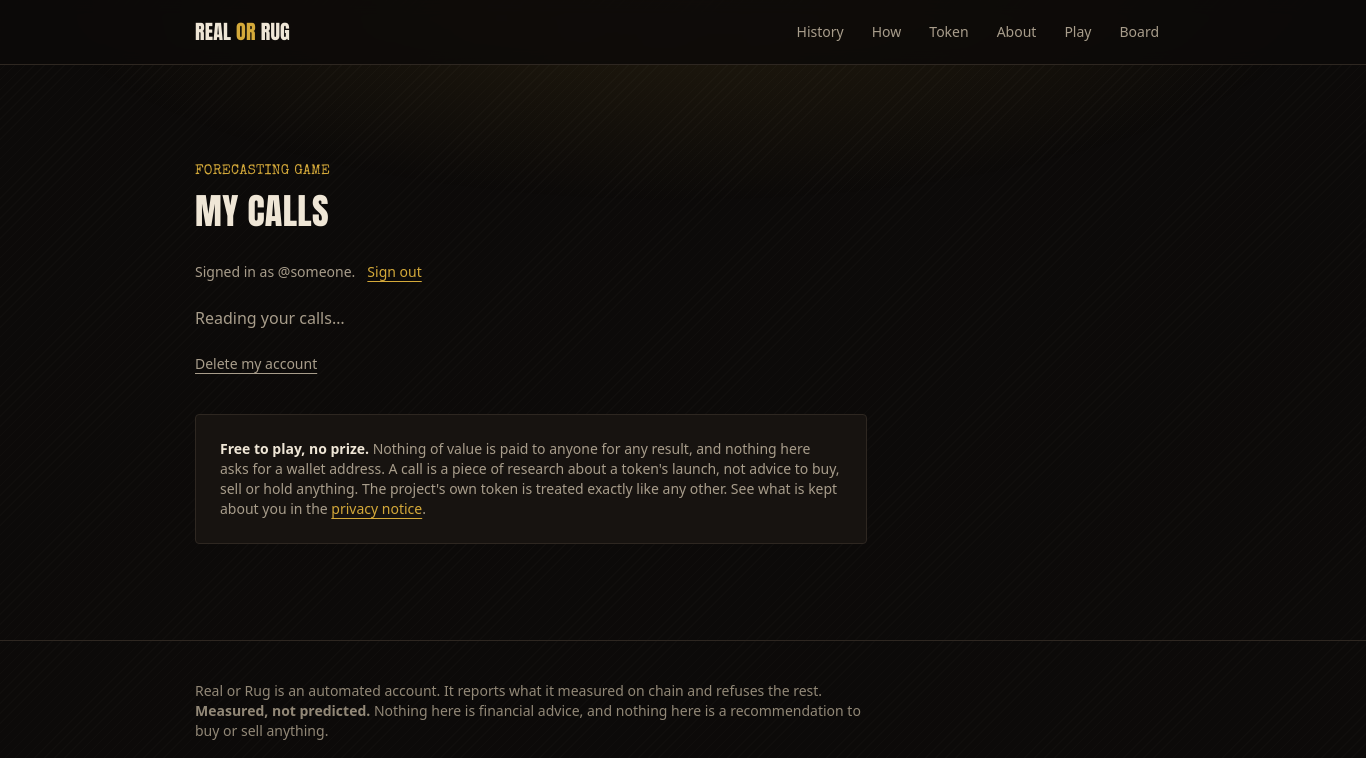
Test case: my calls and the privacy notice › deletes the account only after a confirm step, with the CSRF header and the cookie
The image size is (1366, 758).
Click the button "Delete my account" at (256,364), box [195,354,317,374]
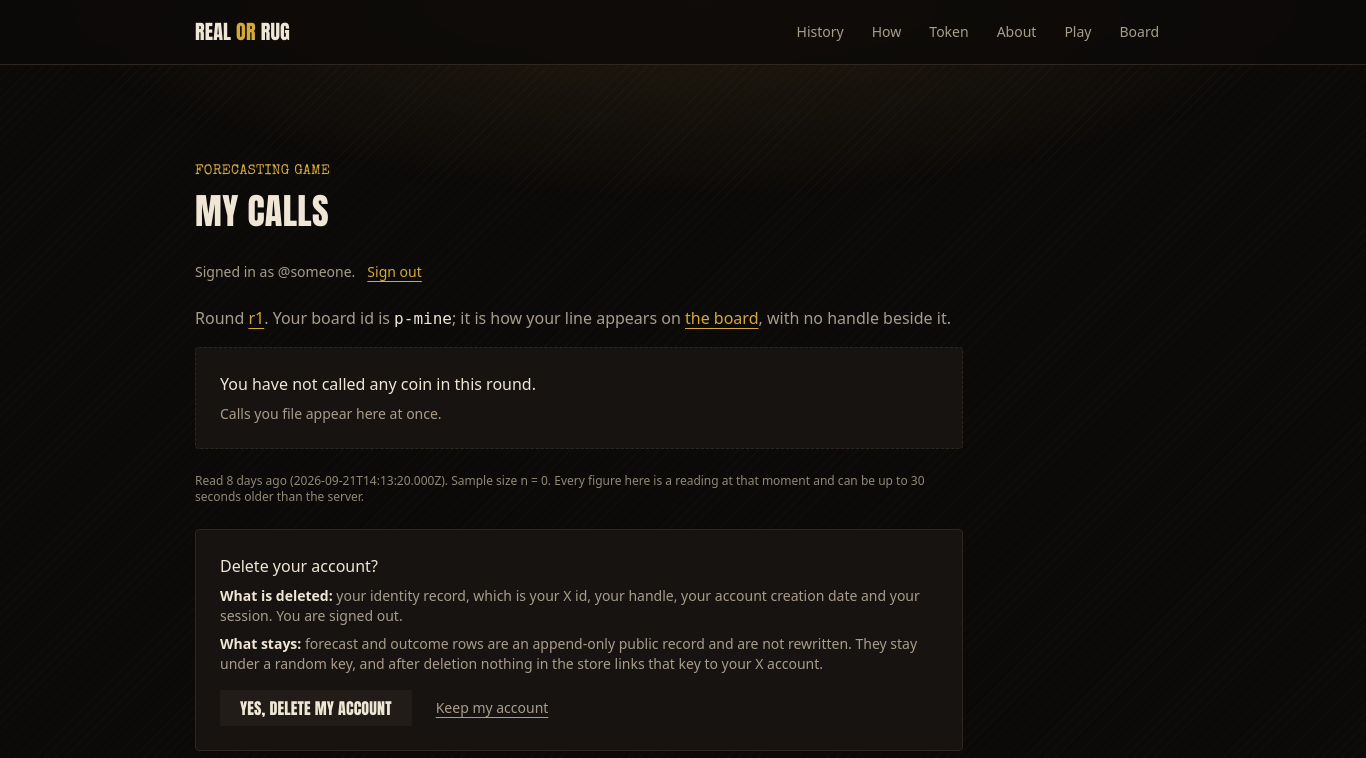
Click the button "Yes, delete my account" at (316,708), box [220,690,412,726]
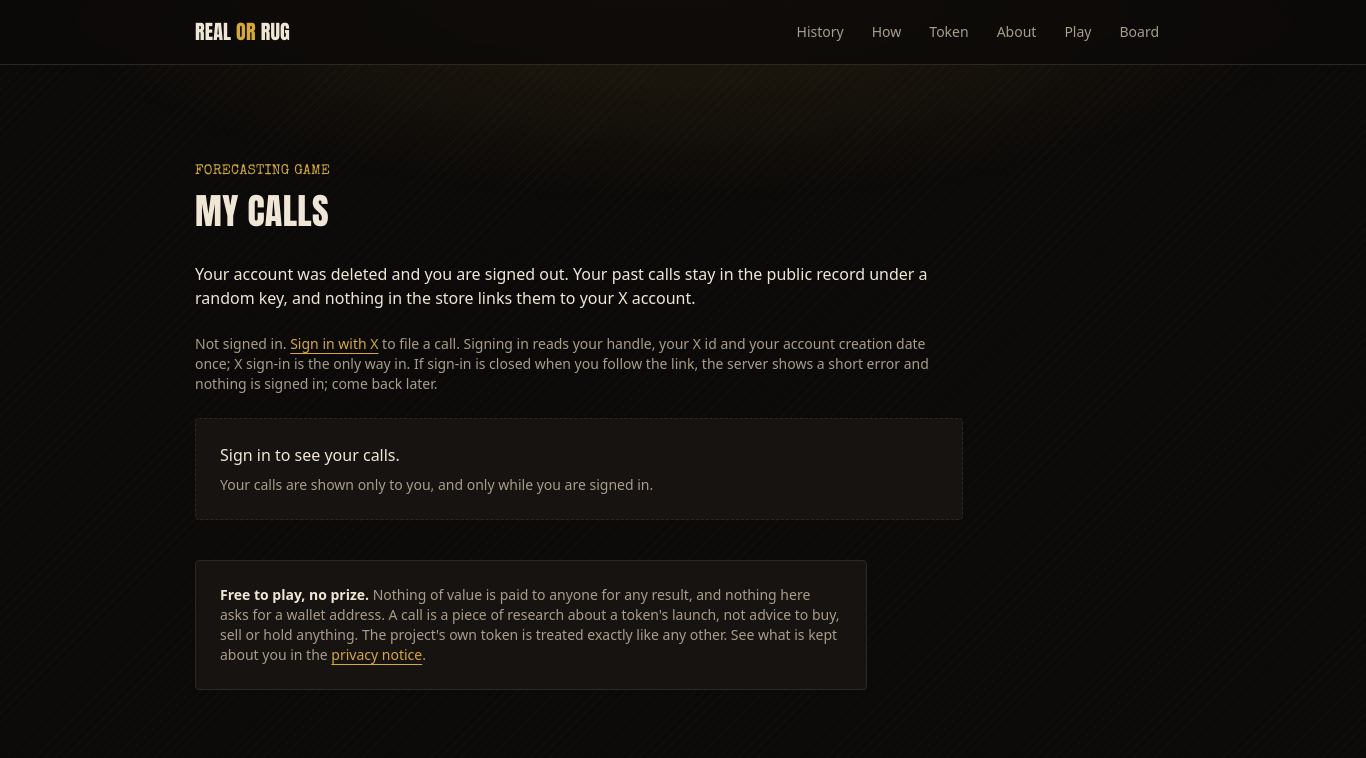
Expected: the text "Your account was deleted" is shown, [195,263,928,309]
Expected: the button "delete my account" is gone
